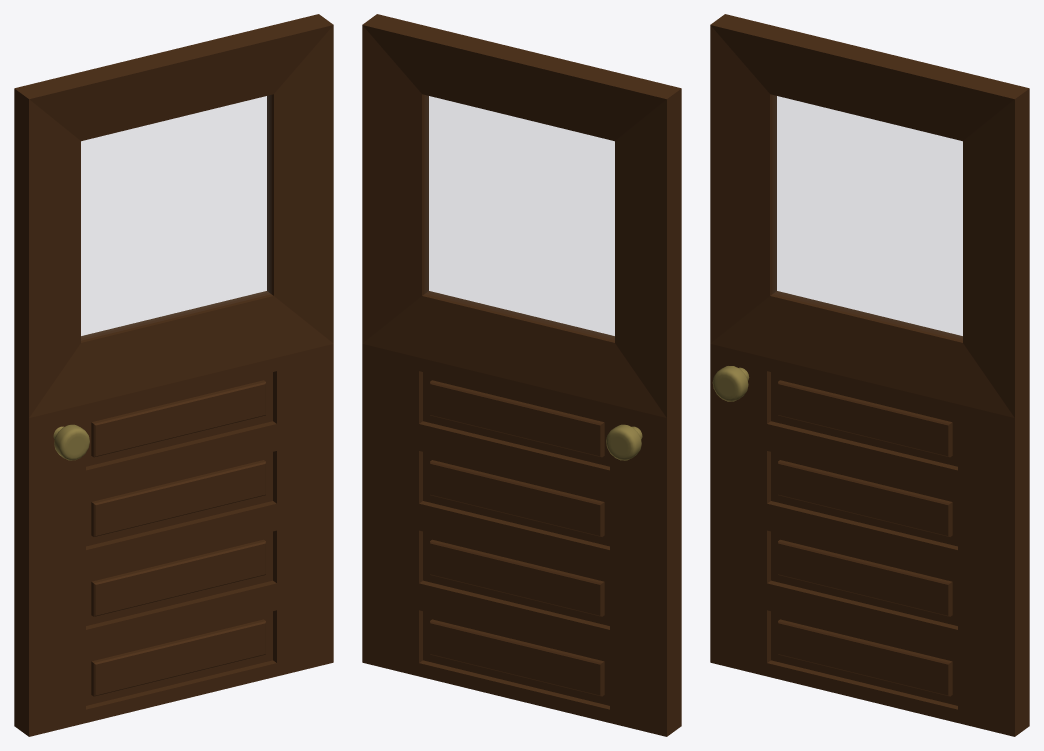
The model's file is door.fbx.
3 views of the same model, side by side, from view 1: azimuth 30°, elevation 25°; view 2: azimuth 150°, elevation 25°; view 3: azimuth 330°, elevation 25° (orthographic).
Visible parts, largest first — view 1: door; view 2: door; view 3: door.
Boxes of the visible parts, left/top/right/bottom form: door: left=14, top=14, right=333, bottom=736; door: left=362, top=14, right=681, bottom=736; door: left=710, top=14, right=1029, bottom=736.
Size of the model in its own units: 200 by 400 by 52.63.
